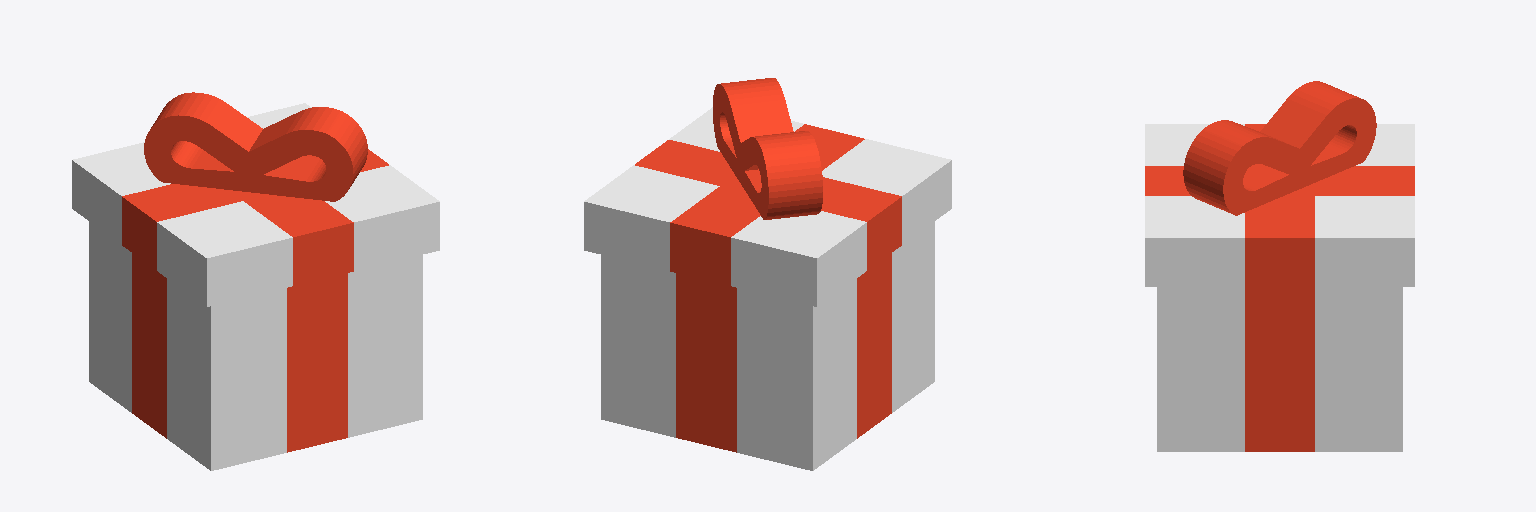
The model's file is present.obj.
The picture shows the model from 3 angles: view 1: azimuth 30°, elevation 25°; view 2: azimuth 150°, elevation 25°; view 3: azimuth 270°, elevation 25°; orthographic projection.
Visible parts, largest first — view 1: present, lid, tie; view 2: present, lid, tie; view 3: present, lid, tie.
Boxes of the visible parts, <box> form: present: <box>89,222,422,470</box>; lid: <box>72,103,439,306</box>; tie: <box>144,92,367,201</box>; present: <box>601,222,934,470</box>; lid: <box>584,107,951,306</box>; tie: <box>713,78,822,219</box>; present: <box>1157,287,1402,451</box>; lid: <box>1145,124,1414,286</box>; tie: <box>1183,81,1376,215</box>.
Size of the model in its own units: 0.3727 by 0.4412 by 0.3727.